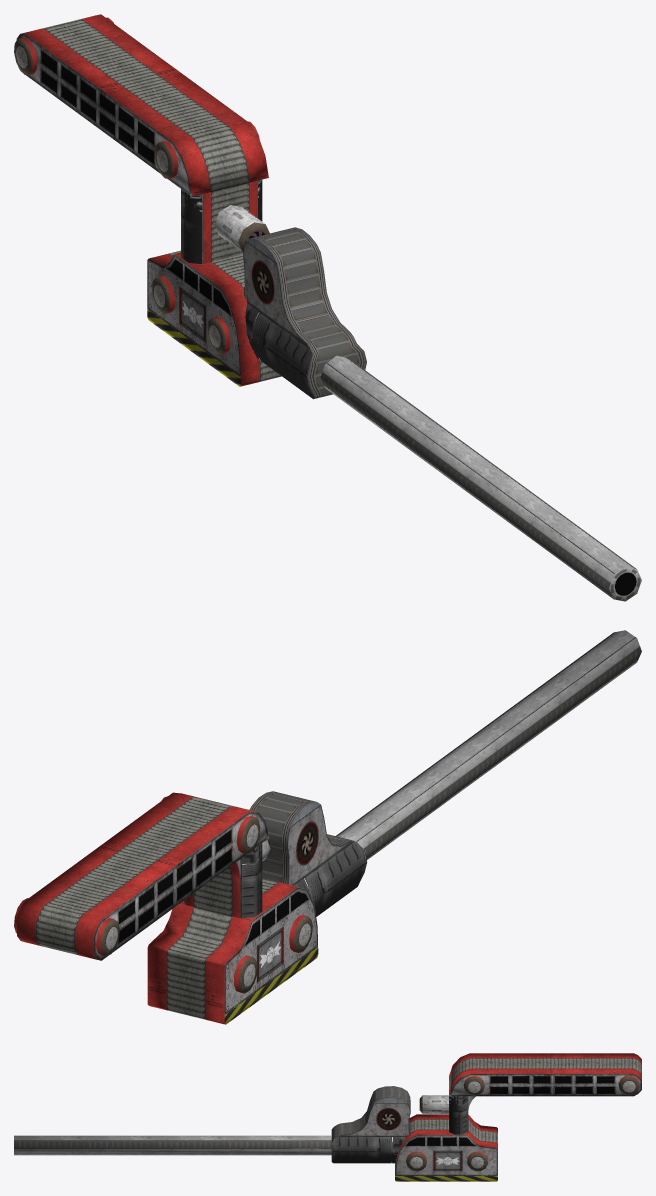
The model's file is Ob_SideDecor_RC.fbx.
3 views of the same model, one above another, from view 1: azimuth 30°, elevation 25°; view 2: azimuth 150°, elevation 25°; view 3: azimuth 270°, elevation 25° (orthographic). The views are drawn at different scales.
Parts seen in each view (by area): view 1: Ob_SideDecor_RC; view 2: Ob_SideDecor_RC; view 3: Ob_SideDecor_RC.
Boxes of the visible parts, x1,y1,x2,y2 form: Ob_SideDecor_RC: [14, 14, 641, 601]; Ob_SideDecor_RC: [14, 630, 641, 1024]; Ob_SideDecor_RC: [14, 1053, 641, 1181].
Size of the model in its own units: 284 by 561 by 2961.
